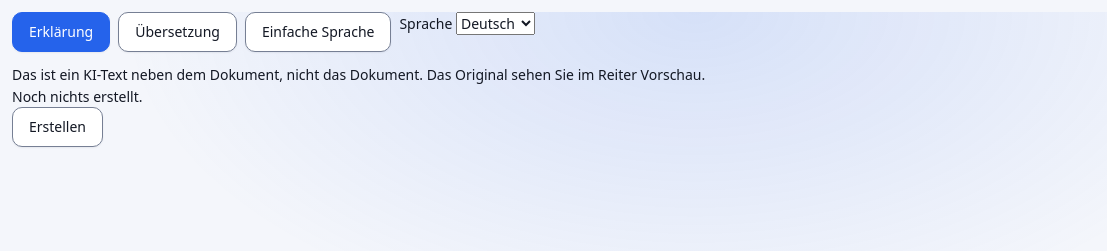
DocumentExplanation › offers to create an explanation when there is none, and says so when the answer was not accepted
The image size is (1107, 251).
Expected: the text "Noch nichts erstellt." is shown, [12, 87, 142, 106]
Click the button "Erstellen" at (58, 127), box [12, 107, 103, 147]
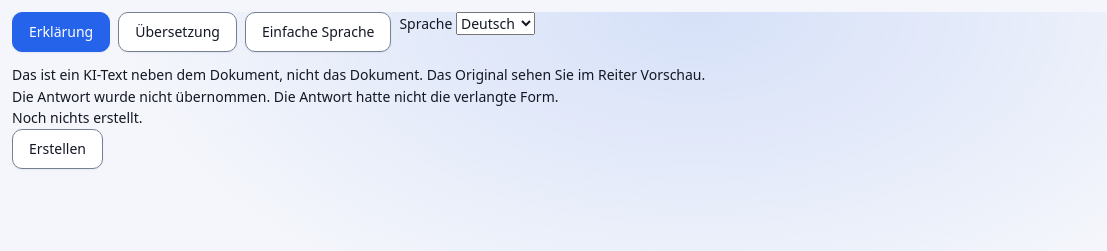
Expected: the message with test id "explanation-outcome" shows "Die Antwort wurde nicht übernommen.", [12, 87, 270, 106]
